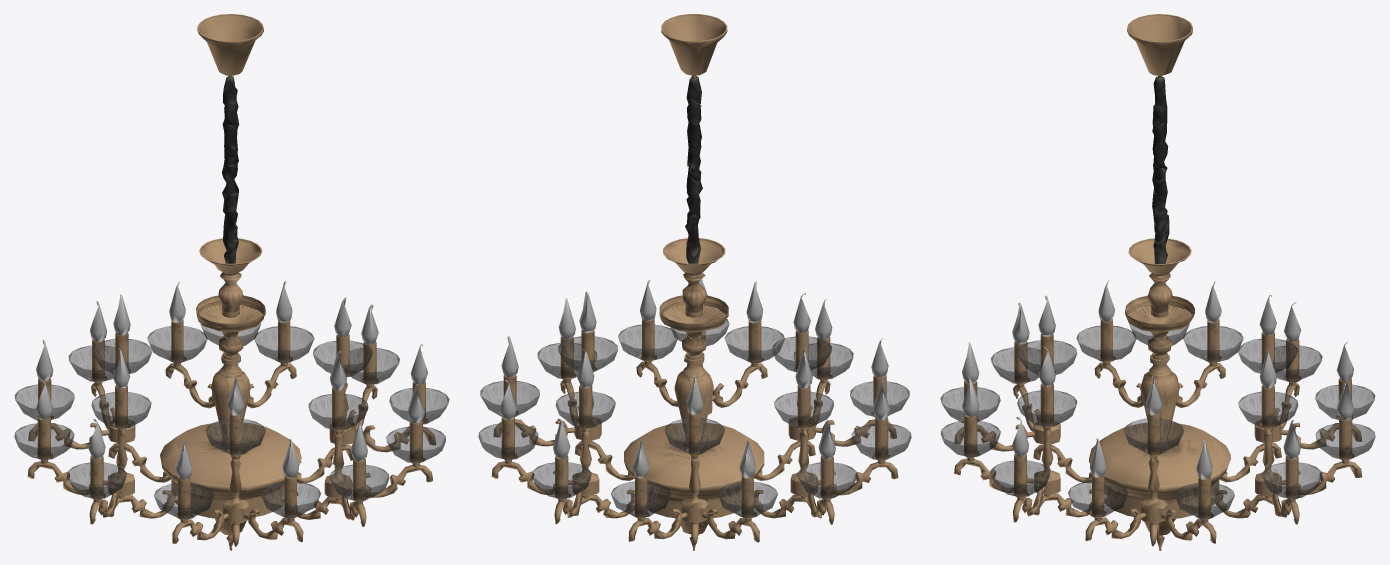
File: chandelier_03.glb
3 views of the same model, side by side, from view 1: azimuth 30°, elevation 25°; view 2: azimuth 150°, elevation 25°; view 3: azimuth 270°, elevation 25° (orthographic).
Parts seen in each view (by area): view 1: Chandelier_03; view 2: Chandelier_03; view 3: Chandelier_03.
Boxes of the visible parts, x1,y1,x2,y2 form: Chandelier_03: (14,14,449,550); Chandelier_03: (478,14,911,550); Chandelier_03: (940,14,1375,550).
Size of the model in its own units: 0.7804 by 1.04 by 0.7852.
2 materials, 2 textured.
